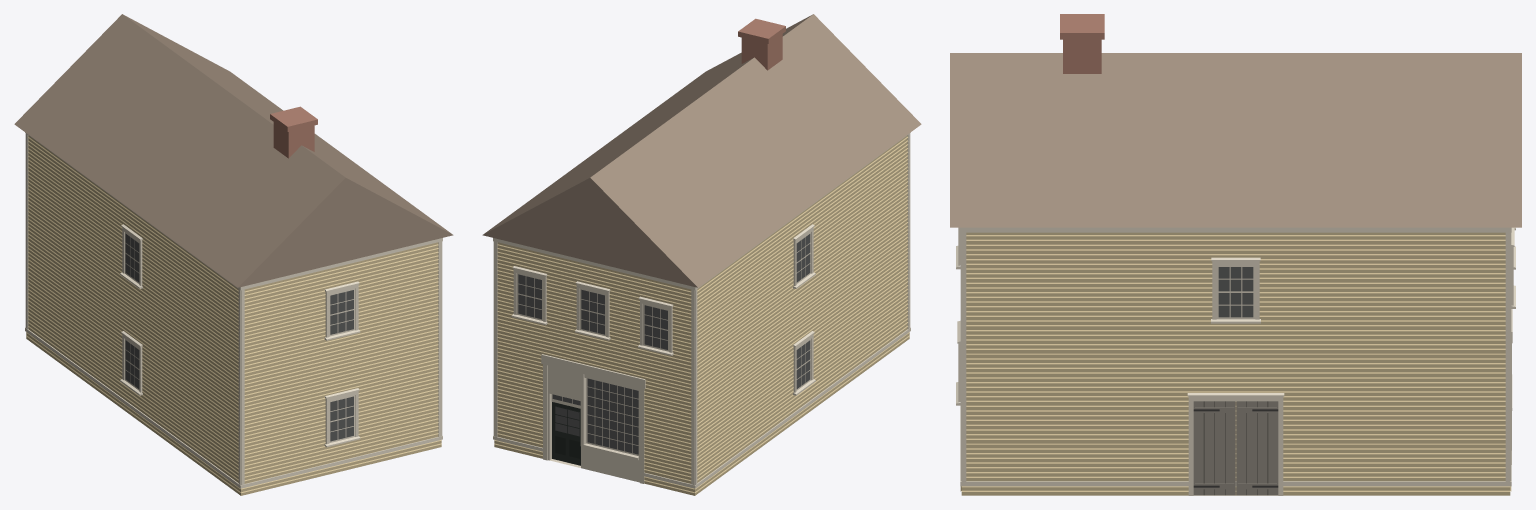
Rendered from recon_1835_core_c3_025__inferred_1835.glb.
3 views of the same model, side by side, from view 1: azimuth 30°, elevation 25°; view 2: azimuth 150°, elevation 25°; view 3: azimuth 270°, elevation 25° (orthographic). The views are drawn at different scales.
Parts seen in each view (by area): view 1: recon_1835_core_c3_025__inferred_1835; view 2: recon_1835_core_c3_025__inferred_1835; view 3: recon_1835_core_c3_025__inferred_1835.
Boxes of the visible parts, x1,y1,x2,y2 form: recon_1835_core_c3_025__inferred_1835: [14, 14, 453, 495]; recon_1835_core_c3_025__inferred_1835: [482, 14, 921, 495]; recon_1835_core_c3_025__inferred_1835: [950, 14, 1521, 495].
Bounding box in the file's own units: 6.96 × 9.86 × 12.47.
